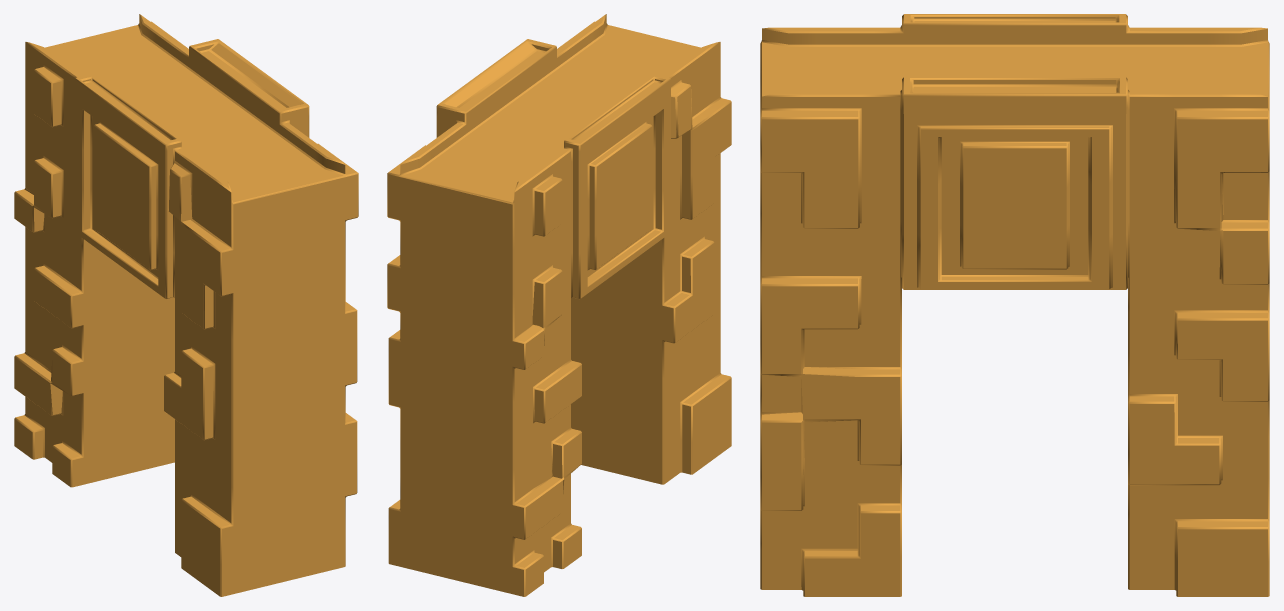
Rendered from Castles_Front.fbx.
The picture shows the model from 3 angles, left to right: view 1: azimuth 30°, elevation 25°; view 2: azimuth 150°, elevation 25°; view 3: azimuth 270°, elevation 25°; orthographic projection. The views are drawn at different scales.
Visible parts, largest first — view 1: Castle_front; view 2: Castle_front; view 3: Castle_front.
Part boxes in pixels (x1,y1,x2,y2): Castle_front: (14, 14, 358, 596); Castle_front: (387, 14, 731, 596); Castle_front: (760, 14, 1269, 596).
Size of the model in its own units: 254 by 657 by 597.
